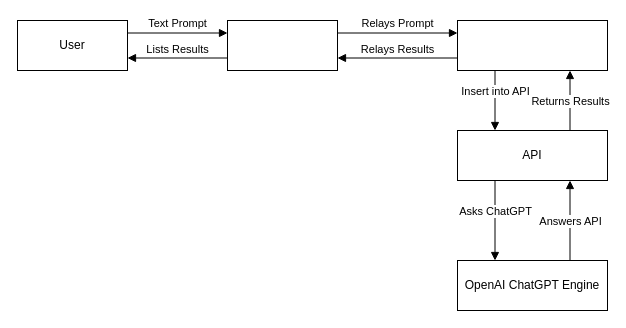
Some shapes in this 626 by 328 pixel diagram are drawn without their labels. Each missing label, with the centre of its shape:
"Bot" belongs at point (532, 45).
"Discord" belongs at point (282, 45).
